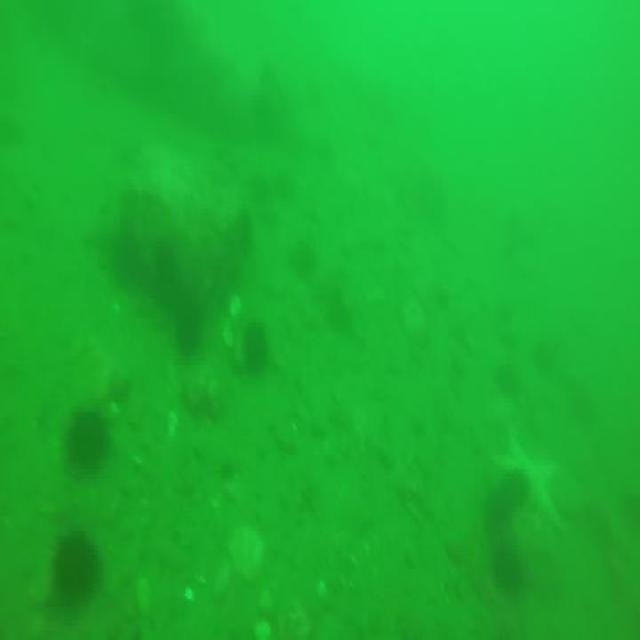echinus: (50, 531, 100, 610), (68, 406, 110, 471), (107, 225, 144, 292), (483, 490, 517, 540), (176, 298, 203, 358), (155, 229, 176, 296), (498, 550, 526, 600), (244, 322, 268, 380), (283, 246, 319, 283)
scallop: (227, 295, 245, 321), (224, 329, 236, 351)
starfish: (489, 430, 562, 532)
